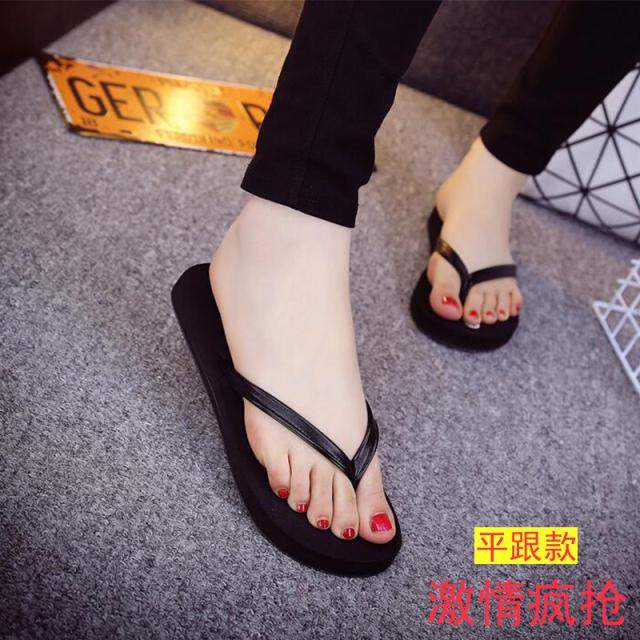Sandals: (140, 166, 563, 582)
